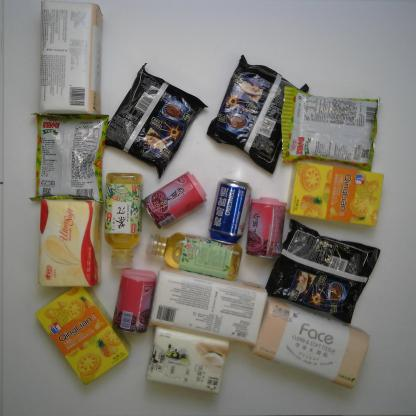Alcohol: (207, 177, 253, 246)
Canned Food: (142, 170, 208, 230), (110, 268, 158, 334), (244, 197, 288, 260)
Dessert: (35, 286, 132, 386), (284, 159, 385, 227)
Drink: (145, 231, 244, 282), (104, 172, 143, 269)
Instant Noodles: (206, 53, 311, 175), (264, 219, 382, 325), (106, 61, 210, 180)
Puffed Food: (281, 86, 382, 172), (28, 111, 110, 207)
Tissue: (247, 296, 374, 390), (147, 266, 270, 347), (38, 0, 104, 115), (145, 324, 229, 396), (36, 198, 103, 287)
